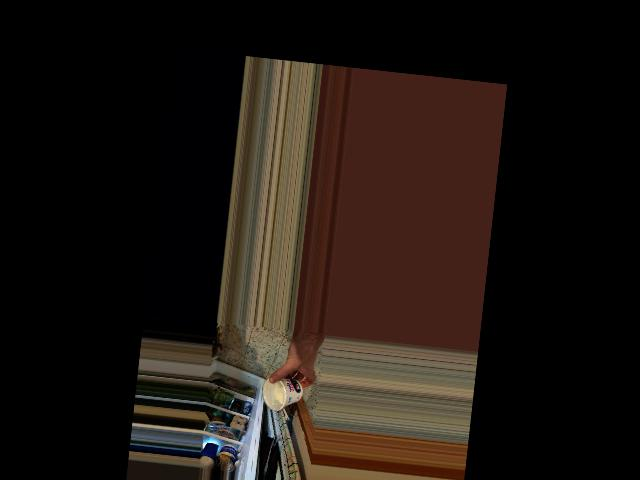cotage: (267, 376, 302, 410)
